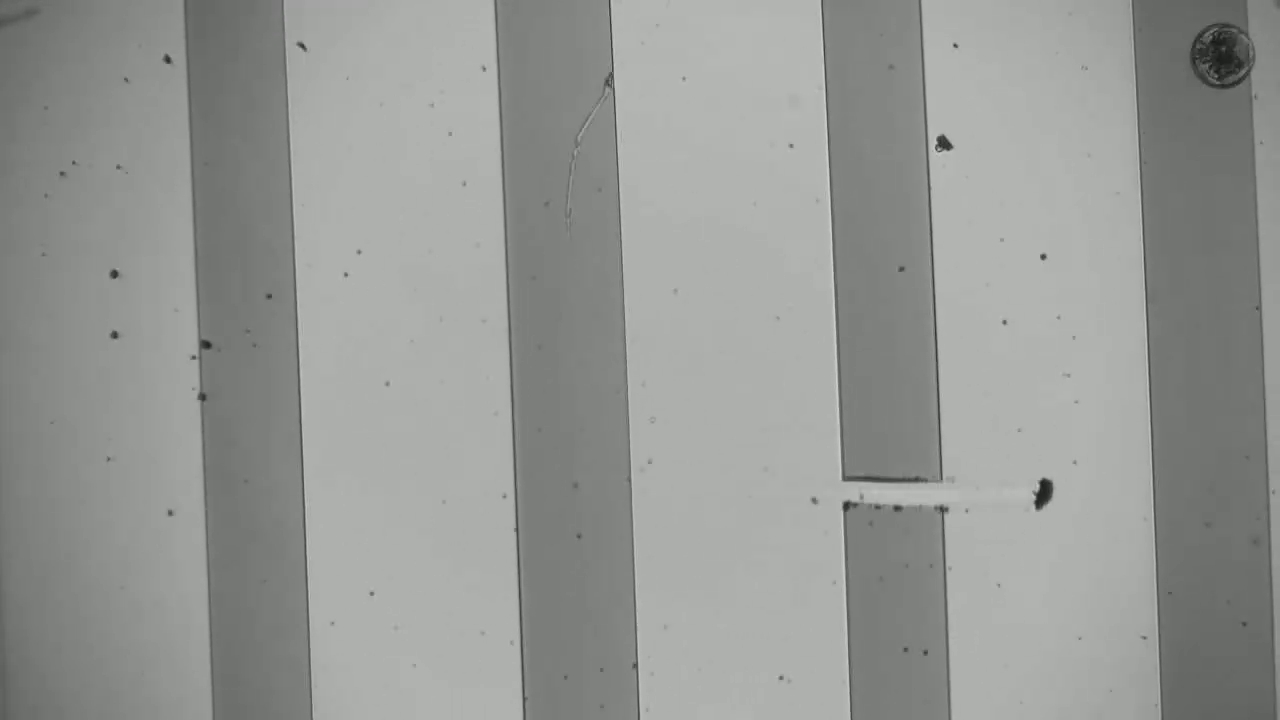Short_circuit: (807, 456, 978, 526)
